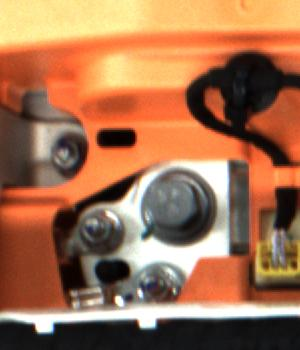nut_b: (133, 167, 222, 251)
screw_s: (135, 264, 177, 303), (79, 208, 114, 246), (48, 142, 82, 172)
